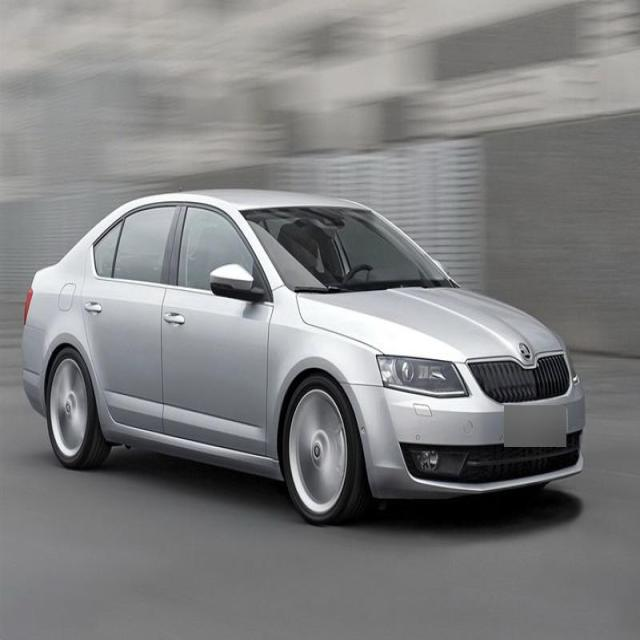door: (84, 210, 182, 438)
front_bumper: (336, 347, 587, 500)
front_glass: (238, 204, 454, 292)
front_right_side_door: (158, 196, 274, 463)
front_right_side_light: (376, 352, 470, 401)
front_right_side_mirror: (209, 262, 264, 301)
wheel: (279, 371, 369, 524), (46, 346, 106, 470)
